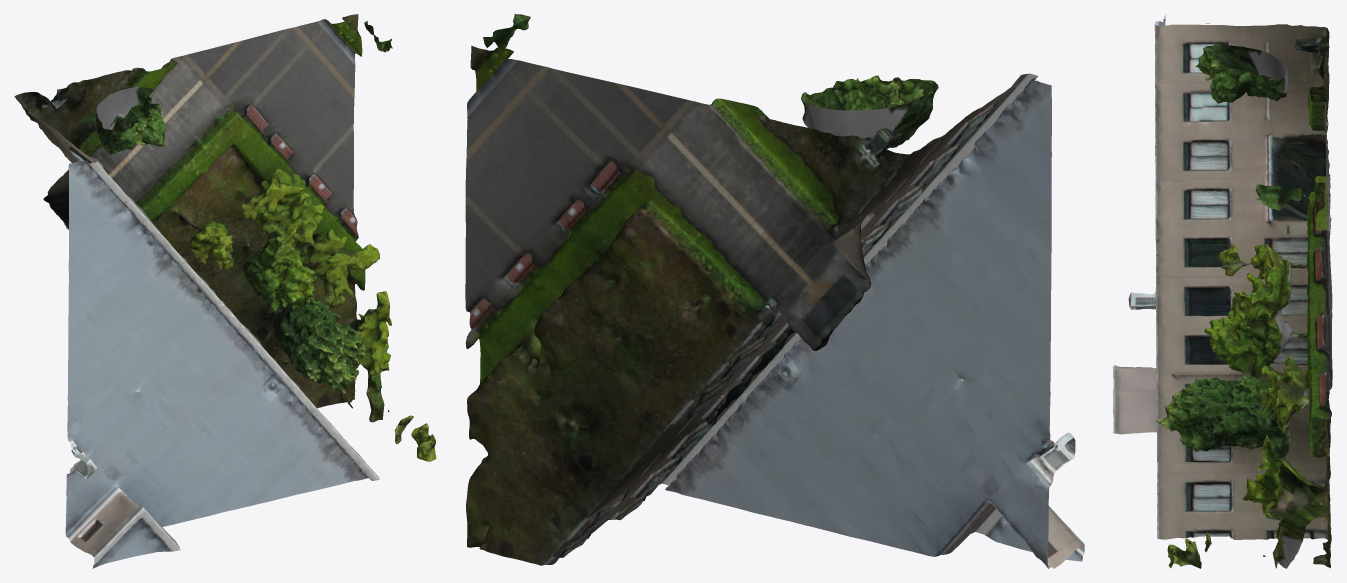
File: Tile_+006_+021.fbx
3 renders of one model, left to right at view 1: azimuth 30°, elevation 25°; view 2: azimuth 150°, elevation 25°; view 3: azimuth 270°, elevation 25°, orthographic. The views are drawn at different scales.
Parts seen in each view (by area): view 1: DefaultName; view 2: DefaultName; view 3: DefaultName.
Boxes of the visible parts, x1=… form: DefaultName: x1=14, y1=14, x2=436, y2=568; DefaultName: x1=465, y1=14, x2=1084, y2=568; DefaultName: x1=1113, y1=14, x2=1332, y2=568.
Size of the model in its own units: 22.54 by 22.54 by 11.85.
